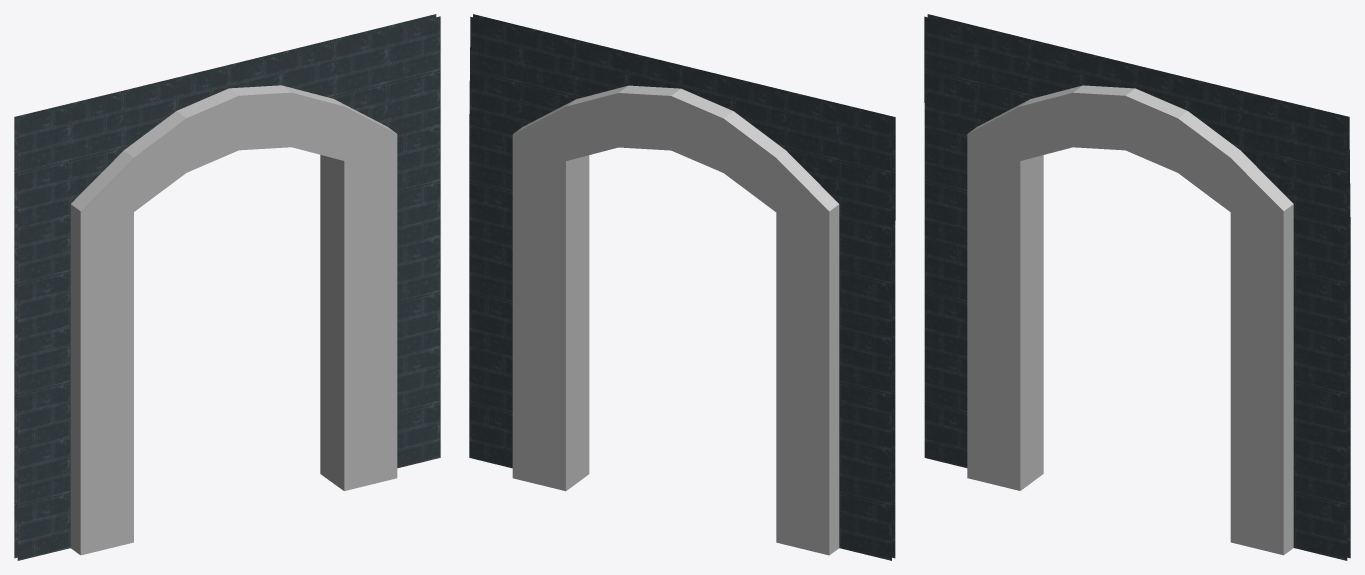
The model's file is ArchLarge.fbx.
The picture shows the model from 3 angles, left to right: view 1: azimuth 30°, elevation 25°; view 2: azimuth 150°, elevation 25°; view 3: azimuth 330°, elevation 25°; orthographic projection.
Parts seen in each view (by area): view 1: Plane.001; view 2: Plane.001; view 3: Plane.001.
Part boxes in pixels (x1,y1,x2,y2): Plane.001: (14,14,440,560); Plane.001: (469,14,895,560); Plane.001: (924,14,1350,560).
Size of the model in its own units: 802 by 800 by 77.51.
